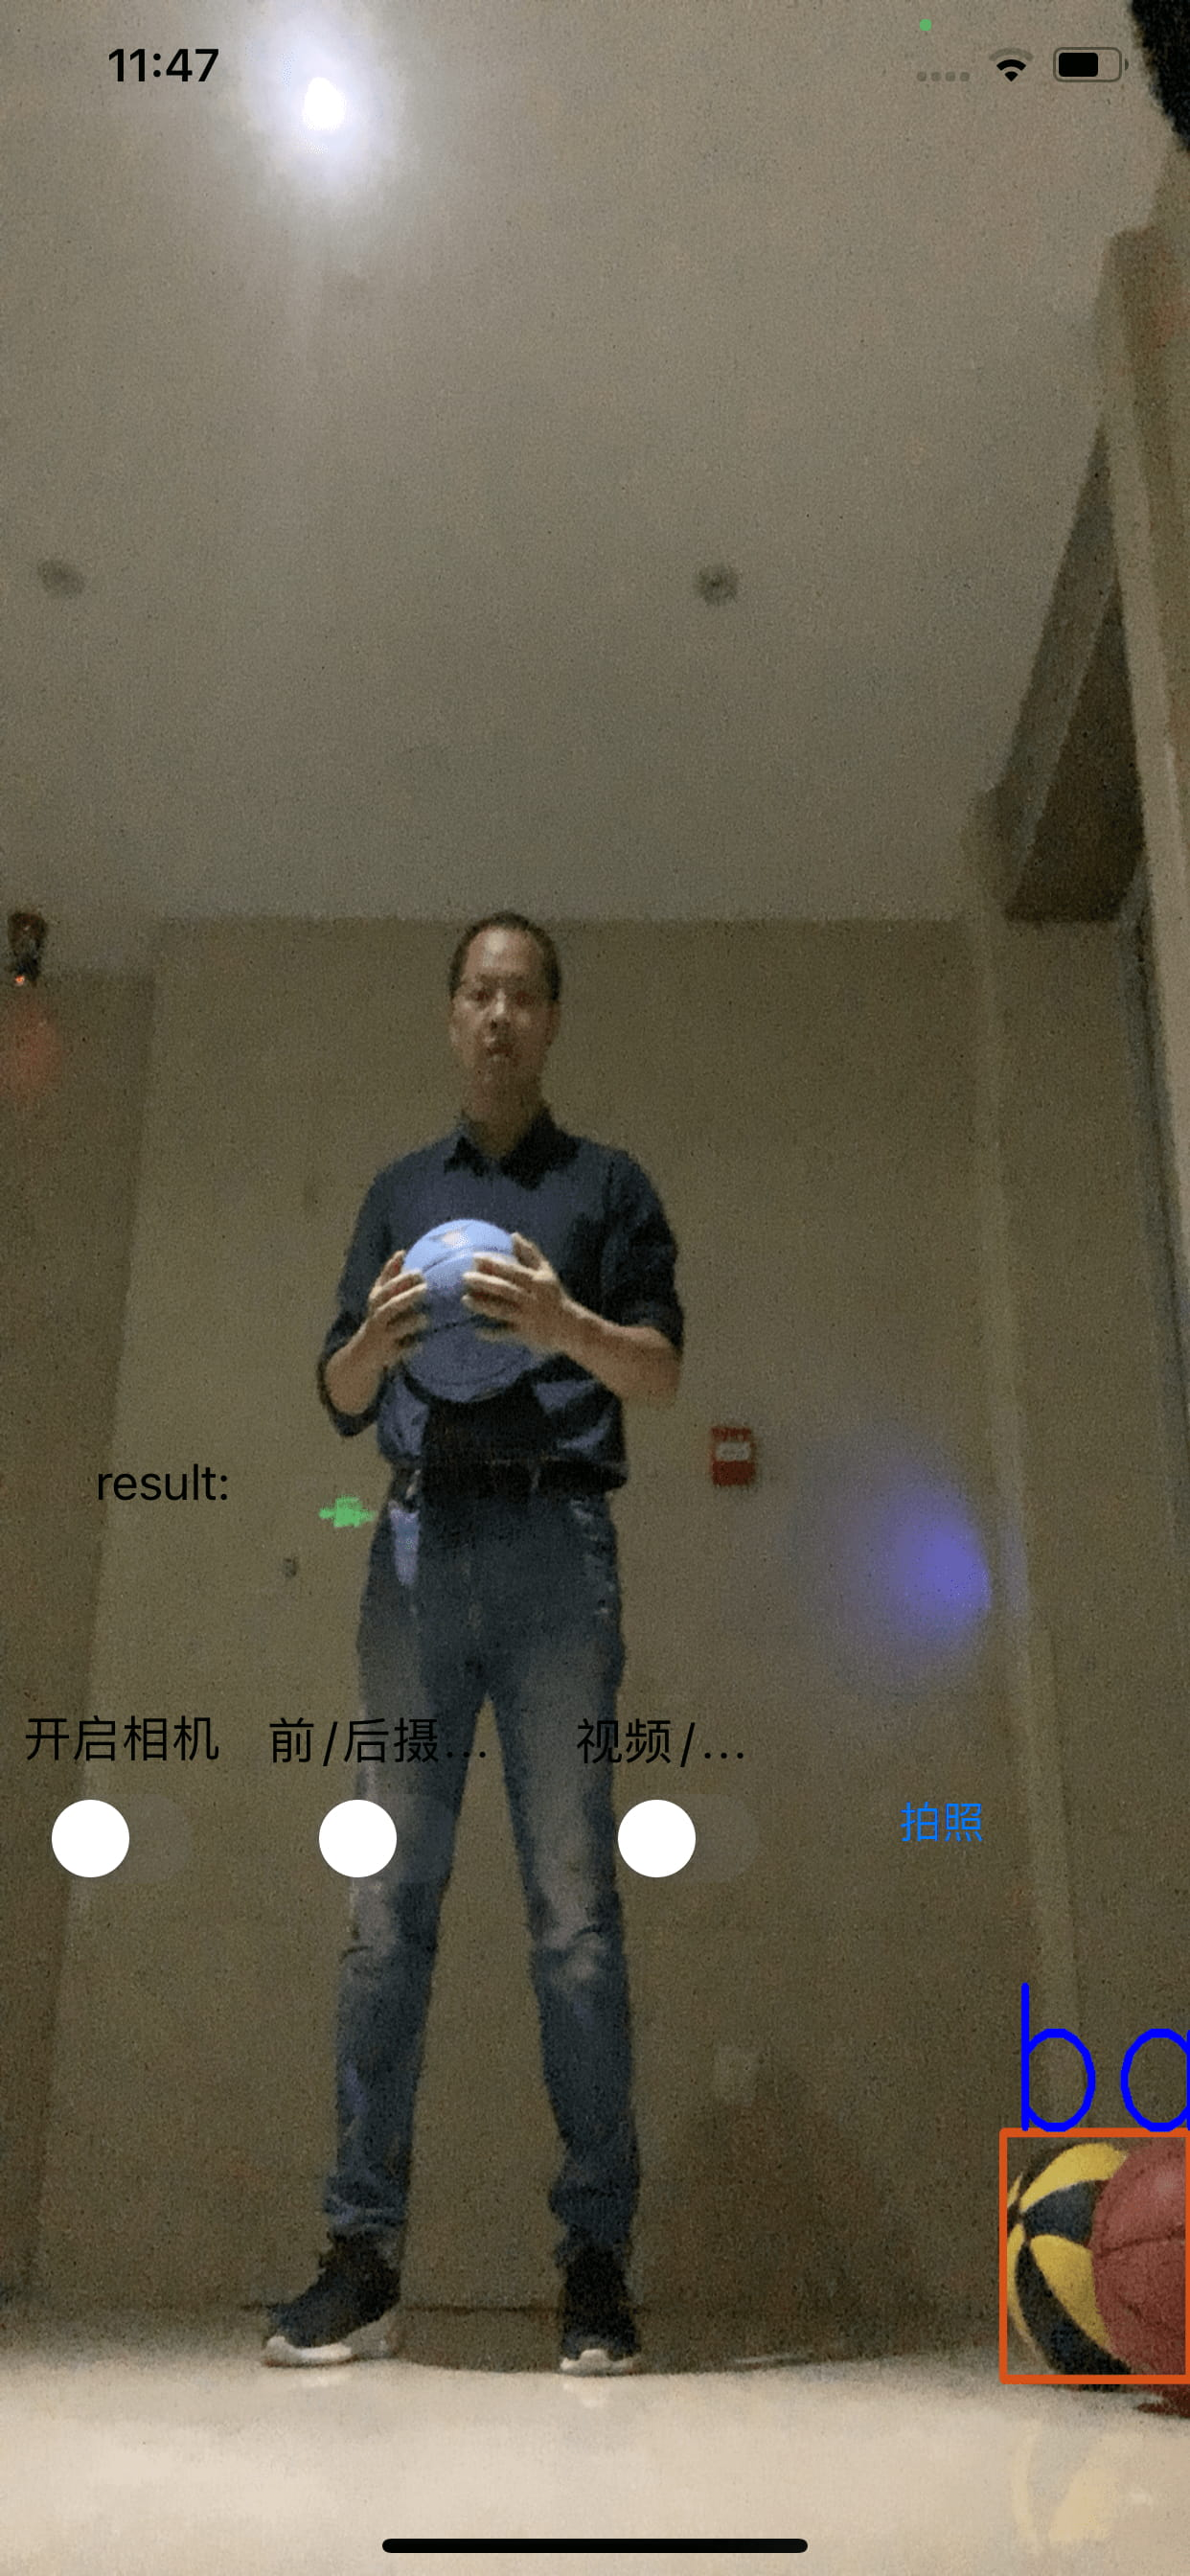ball: (385, 1216, 551, 1405), (1093, 2142, 1190, 2395), (1014, 2142, 1113, 2390)
